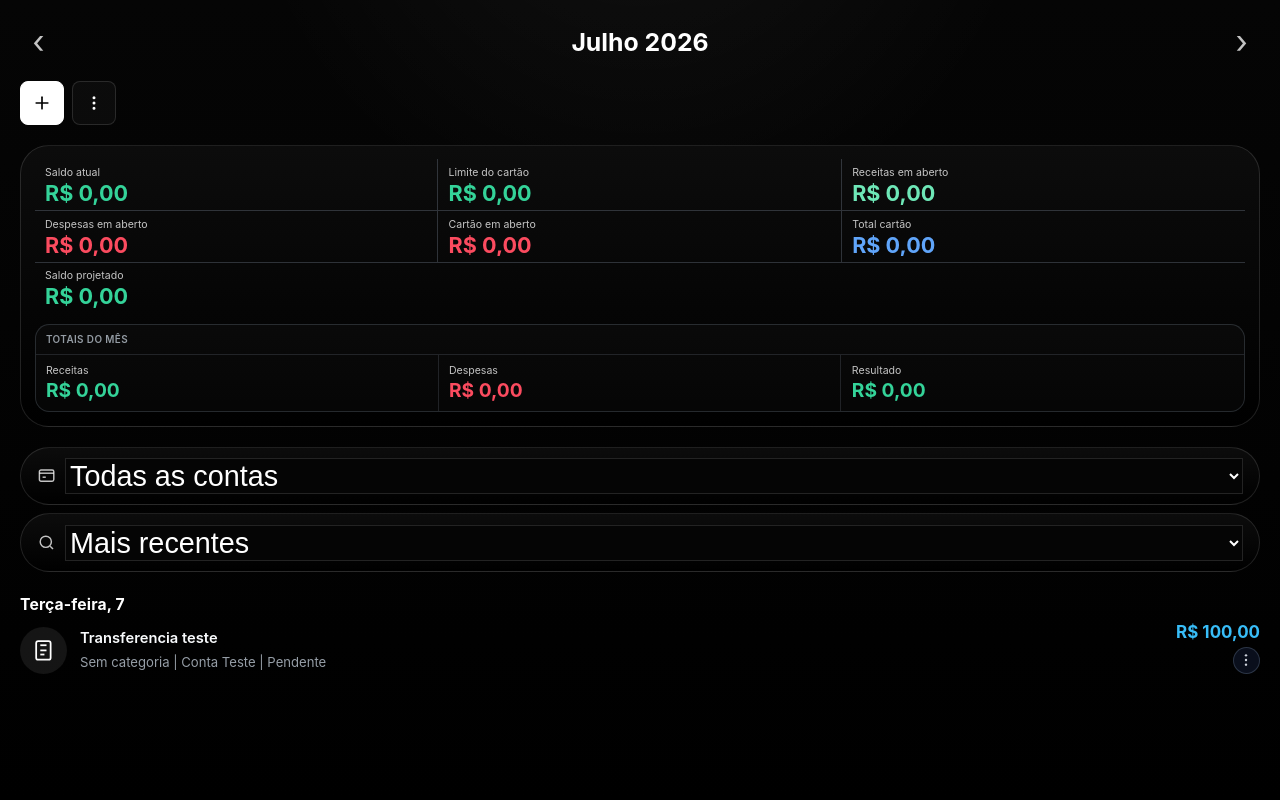
Test: Transactions Page › does not show a category field when clearing a transfer
Click the heading named "Ações da transação" at (1246, 660), box [1233,647,1260,674]
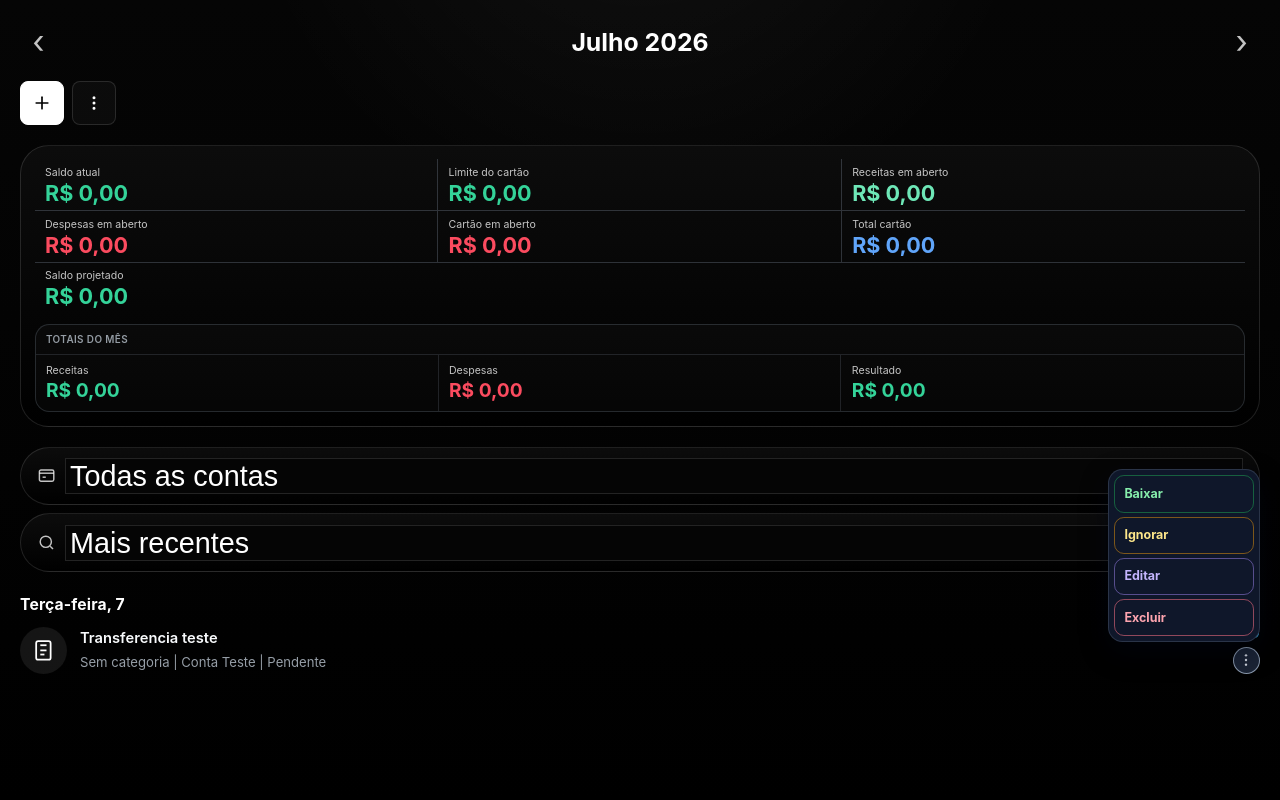
Click the button "Baixar" at (1184, 494), box [1114,476,1254,513]
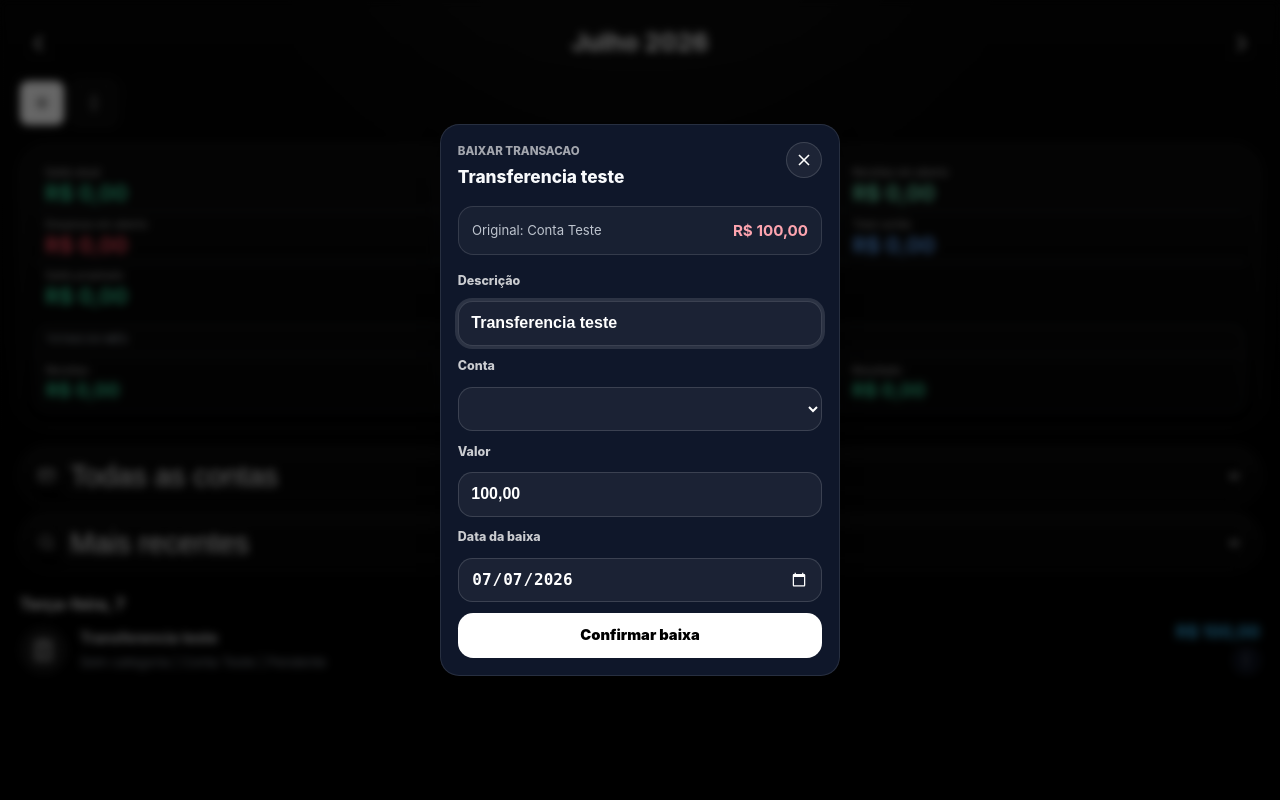
Now the heading "Transferencia teste" is shown, box [458,163,624,191]
